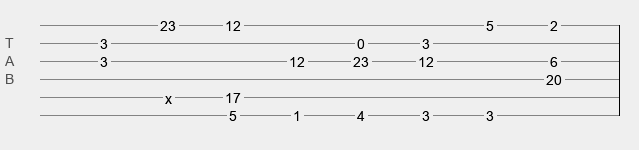0: (357, 36, 365, 46)
1: (293, 108, 301, 118)
12: (225, 18, 241, 28), (289, 54, 305, 64), (418, 54, 434, 64)
17: (225, 90, 241, 100)
2: (550, 18, 558, 28)
20: (546, 72, 562, 82)
23: (160, 18, 176, 28), (353, 54, 369, 64)
3: (100, 36, 108, 46), (100, 54, 108, 64), (422, 36, 430, 46), (422, 108, 430, 118), (486, 108, 494, 118)
4: (357, 108, 365, 118)
5: (229, 108, 237, 118), (486, 18, 494, 28)
6: (550, 54, 558, 64)
x: (165, 91, 172, 99)
